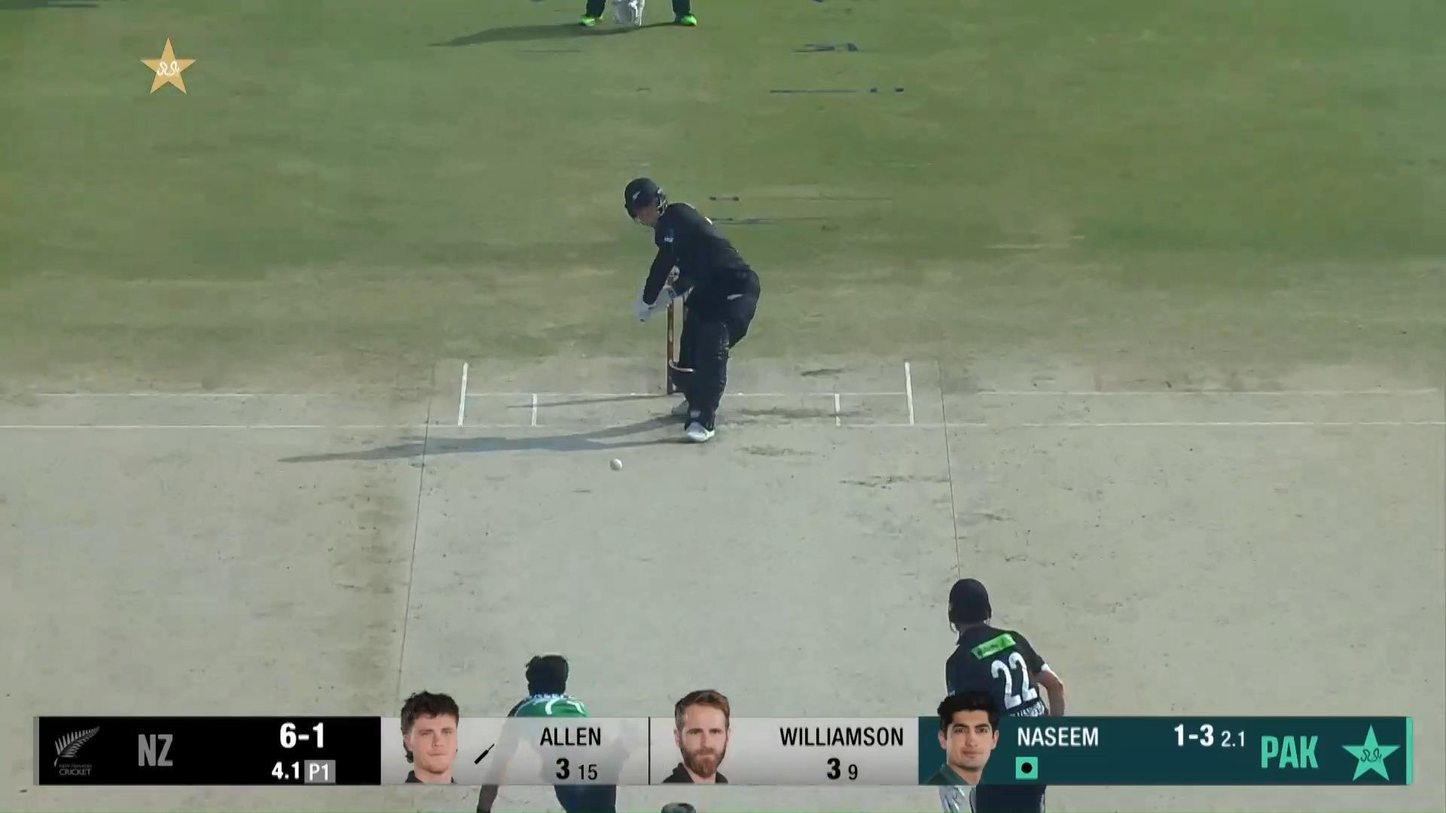BM 1: (624, 177, 761, 444)
BO: (474, 652, 633, 813)
